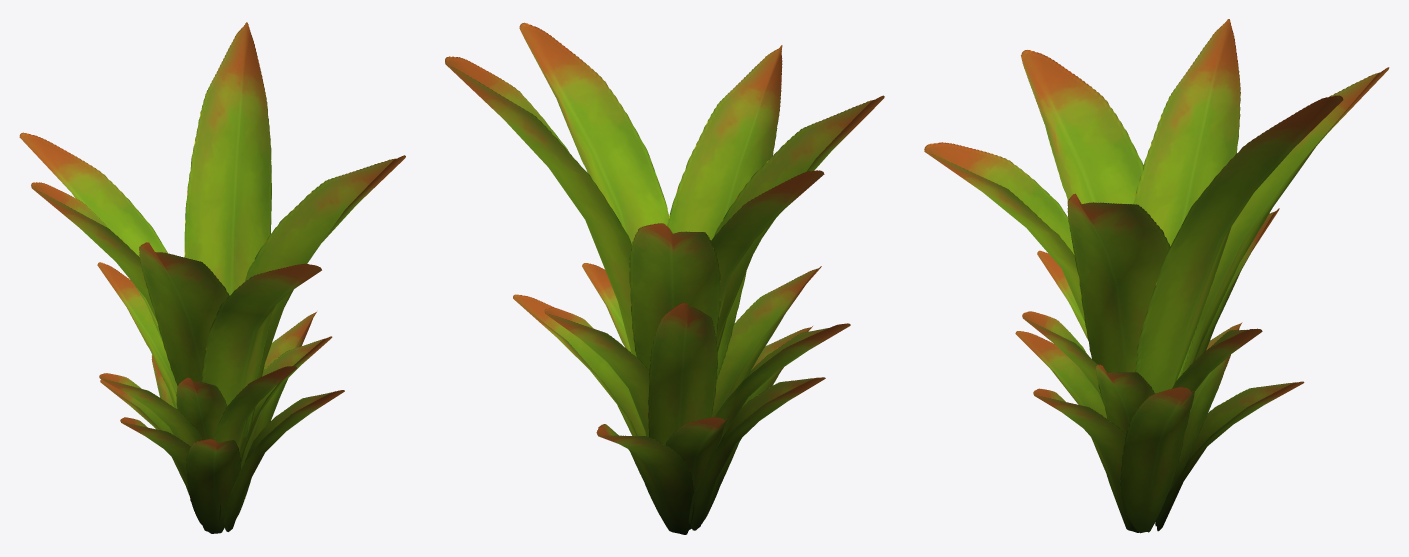
The model's file is Plant.glb.
3 views of the same model, side by side, from view 1: azimuth 30°, elevation 25°; view 2: azimuth 150°, elevation 25°; view 3: azimuth 270°, elevation 25° (orthographic). The views are drawn at different scales.
Parts seen in each view (by area): view 1: Plant_1_Big; view 2: Plant_1_Big; view 3: Plant_1_Big.
Boxes of the visible parts, x1,y1,x2,y2 form: Plant_1_Big: (19,22,405,533); Plant_1_Big: (445,22,884,534); Plant_1_Big: (924,19,1389,533).
Size of the model in its own units: 1.81 by 2.35 by 1.95.
Materials: 1 (1 with a texture image).
